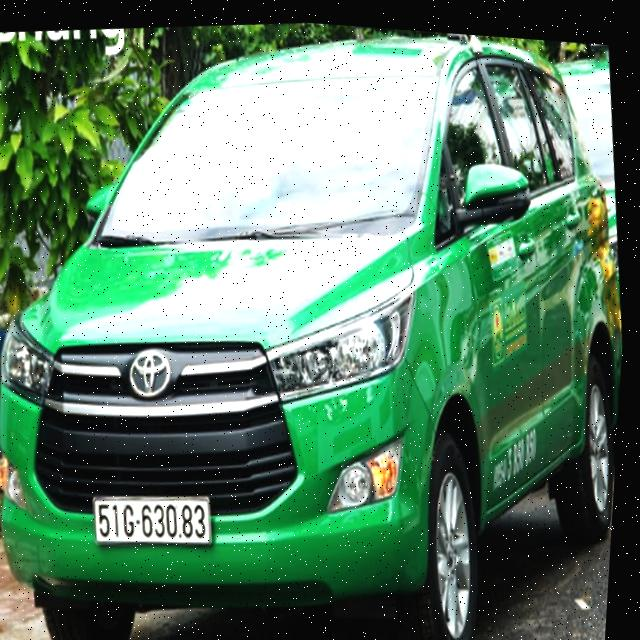car: (0, 0, 640, 640)
plate: (84, 482, 220, 561)
